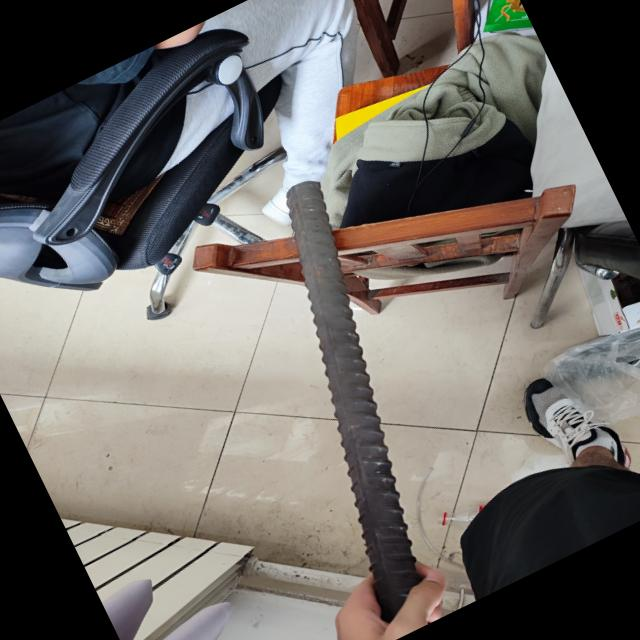ribbed bar: (195, 168, 510, 622)
